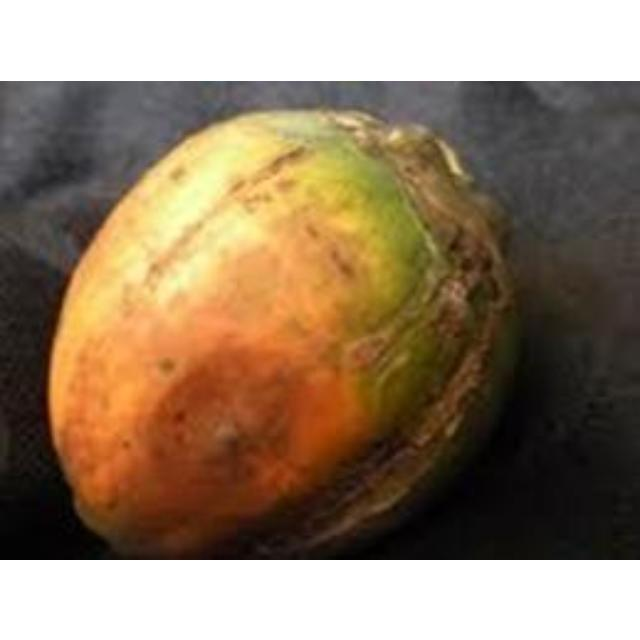good: (42, 107, 526, 557)
